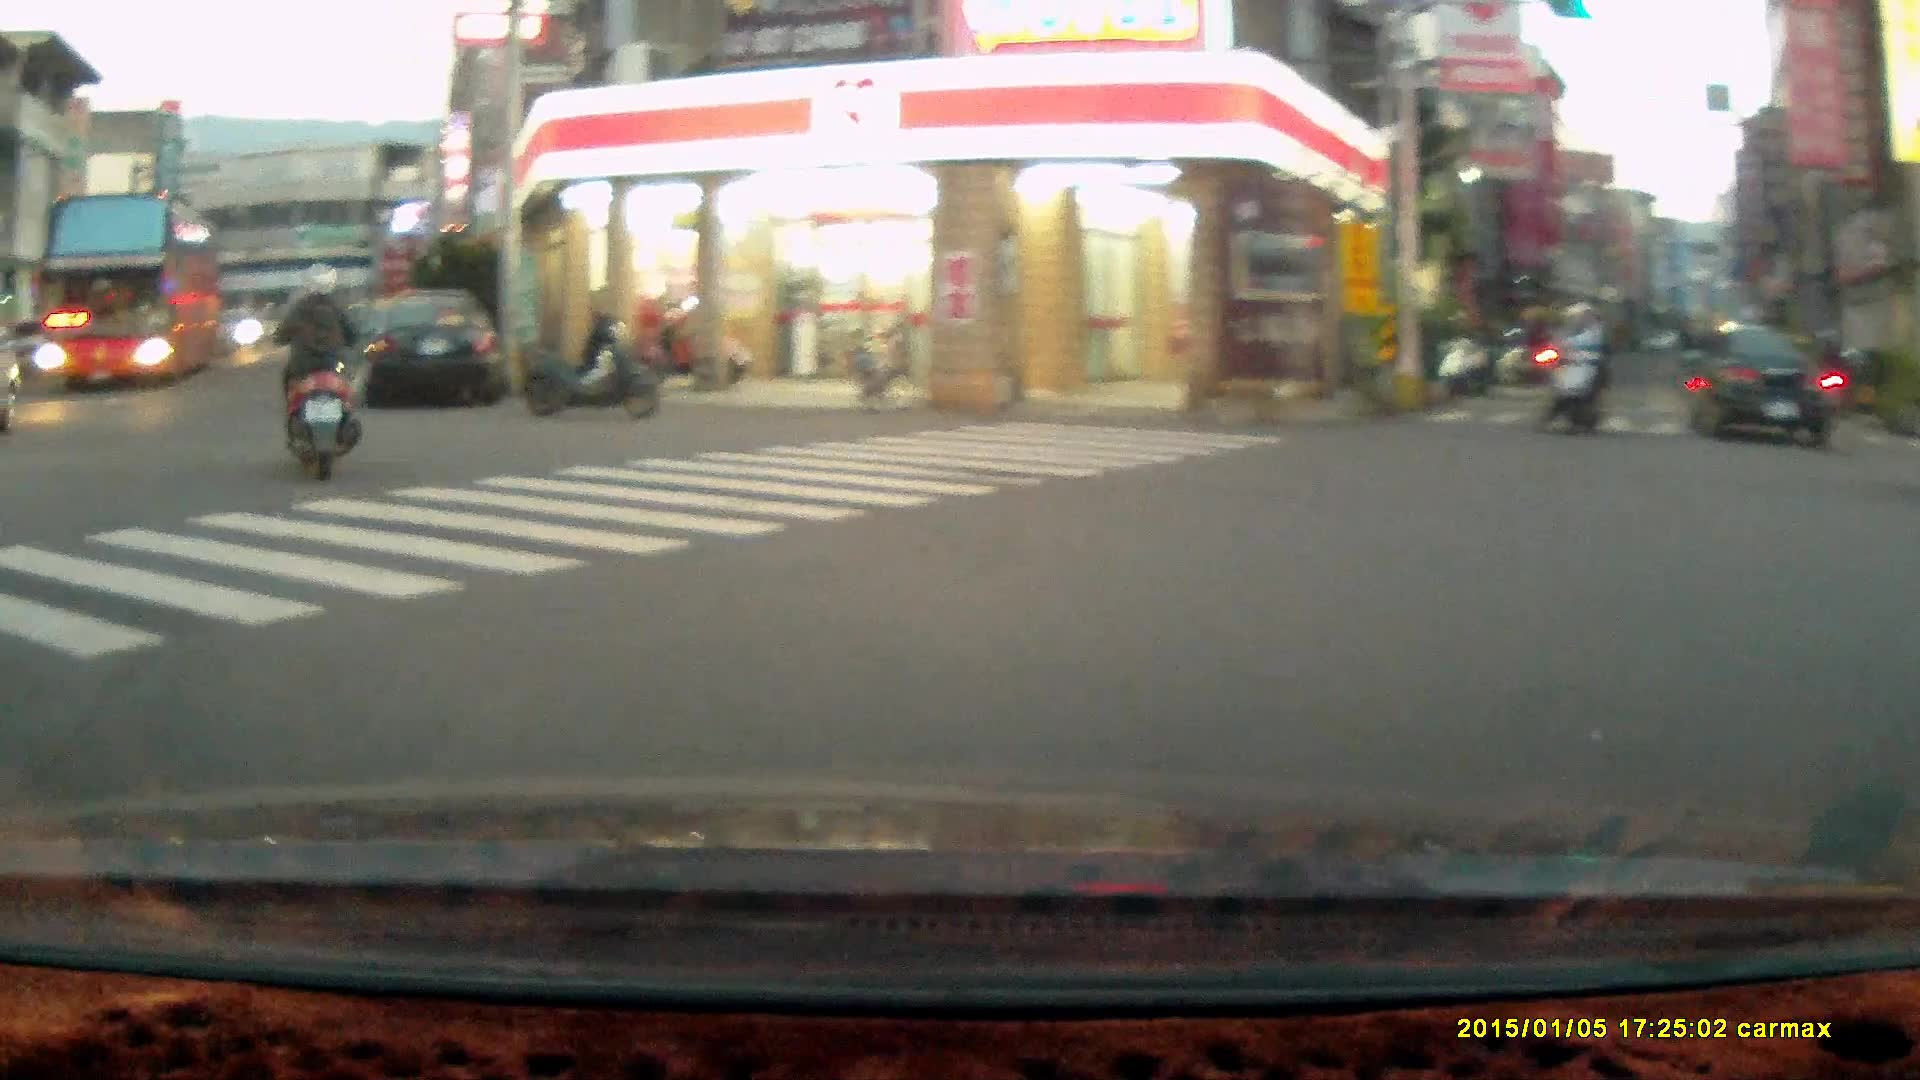rider: (269, 263, 367, 487), (1537, 298, 1608, 440)
vehicle: (37, 194, 223, 391), (1684, 324, 1843, 454), (361, 291, 508, 406)
